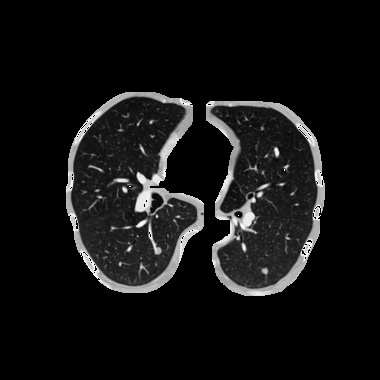PN: (154, 246, 162, 254)
